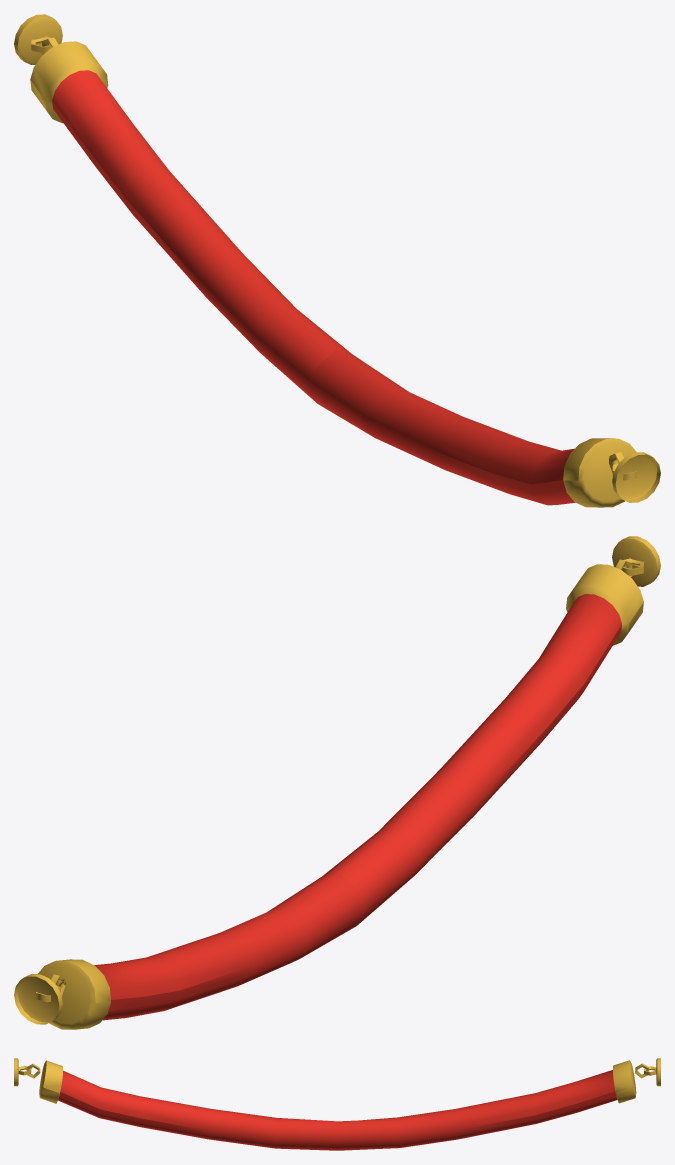
The model's file is RopeBarrier1.fbx.
3 renders of one model, top to bottom at view 1: azimuth 30°, elevation 25°; view 2: azimuth 150°, elevation 25°; view 3: azimuth 270°, elevation 25°, orthographic. The views are drawn at different scales.
Visible parts, largest first — view 1: Cylinder.004; view 2: Cylinder.004; view 3: Cylinder.004.
Part boxes in pixels (x1=…): Cylinder.004: x1=14, y1=14, x2=660, y2=507; Cylinder.004: x1=14, y1=536, x2=660, y2=1029; Cylinder.004: x1=14, y1=1058, x2=660, y2=1150.
Bounding box in the file's own units: 6.41 × 16.6 × 106.
